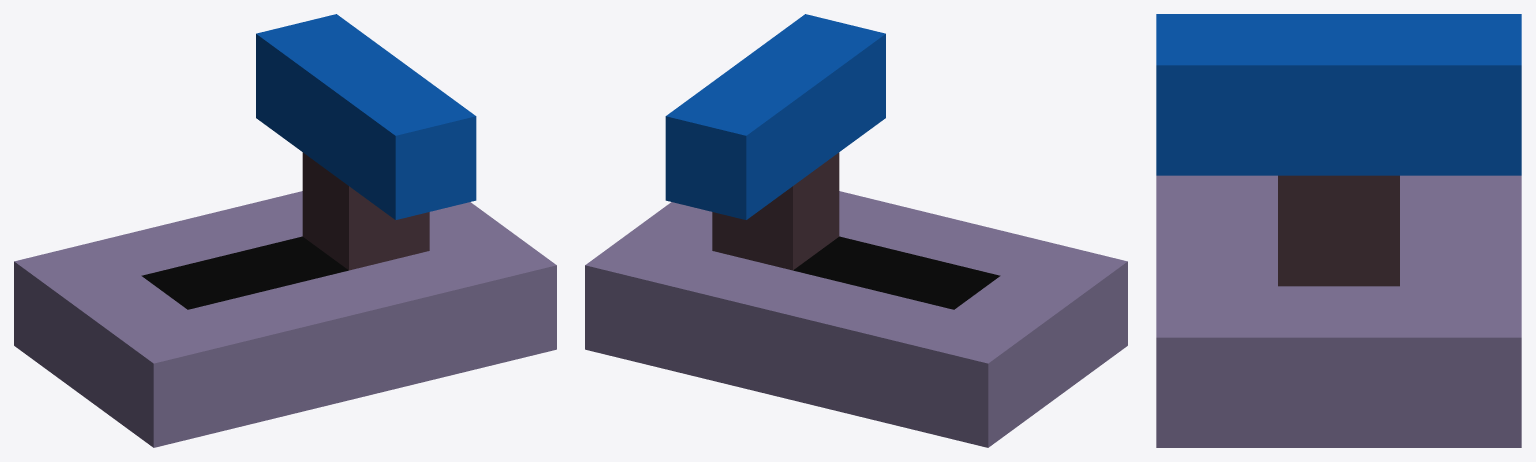
Rendered from lever_a_a_blue_on.obj.
3 views of the same model, side by side, from view 1: azimuth 30°, elevation 25°; view 2: azimuth 150°, elevation 25°; view 3: azimuth 270°, elevation 25° (orthographic). The views are drawn at different scales.
Size of the model in its own units: 0.5 by 0.3 by 0.3.
Materials: 1 (1 with a texture image).
